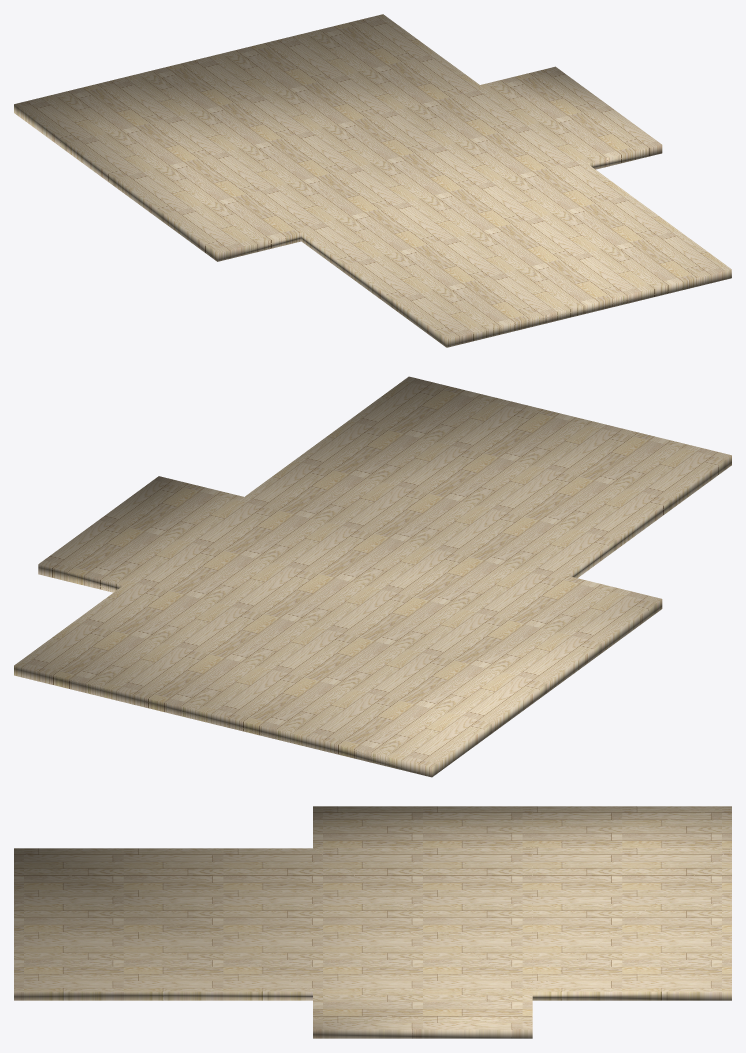
Rendered from floor.obj.
3 renders of one model, top to bottom at view 1: azimuth 30°, elevation 25°; view 2: azimuth 150°, elevation 25°; view 3: azimuth 270°, elevation 25°, orthographic. The views are drawn at different scales.
Visible parts, largest first — view 1: Floor; view 2: Floor; view 3: Floor.
Boxes of the visible parts, <box> form: Floor: <box>14,14,731,347</box>; Floor: <box>14,376,731,777</box>; Floor: <box>14,806,731,1038</box>.
Bounding box in the file's own units: 5.3 × 0.1 × 7.2.
Materials: 1 (1 with a texture image).
